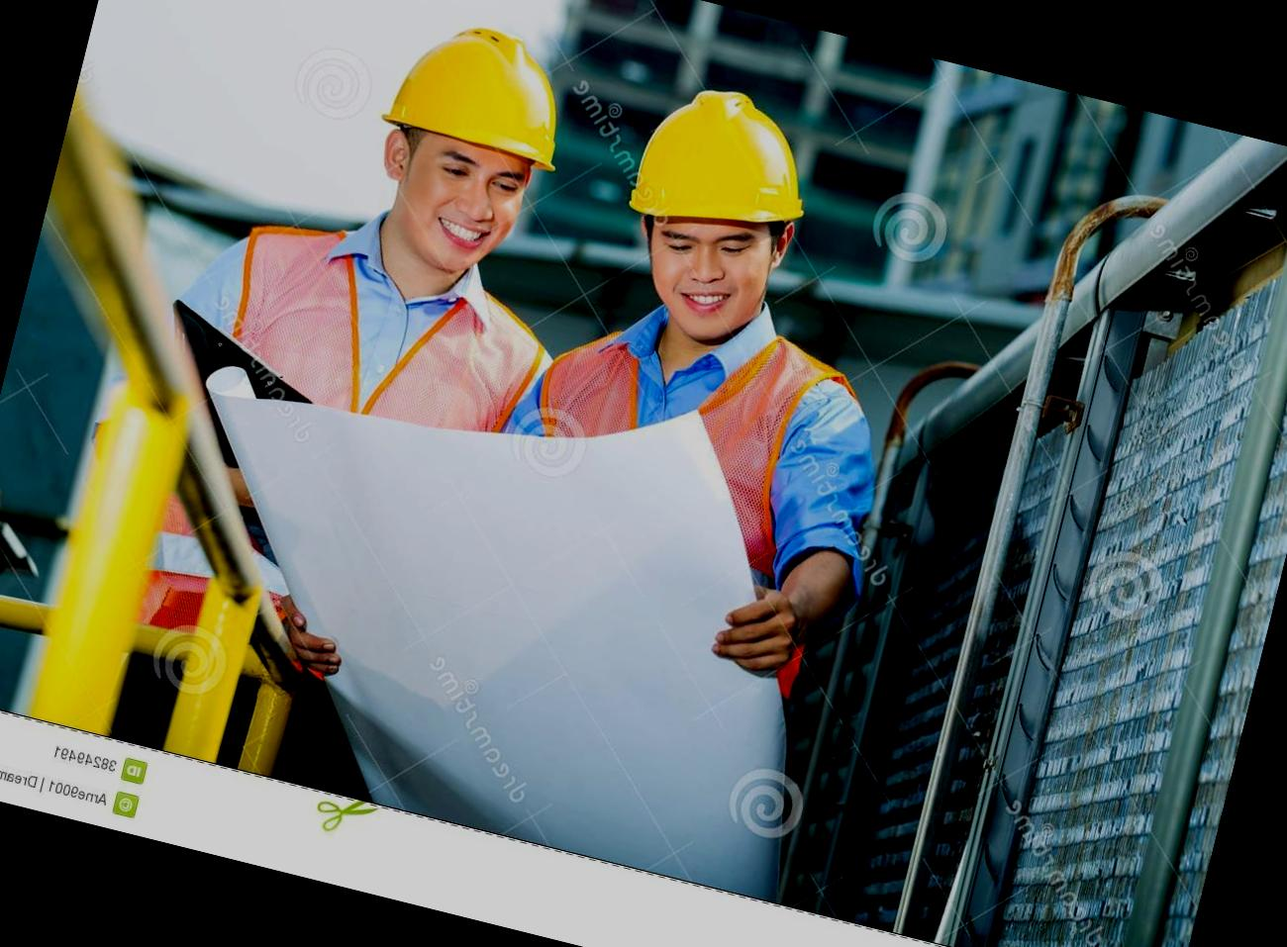helmet: (366, 0, 595, 199), (611, 67, 839, 265)
person: (118, 0, 614, 553), (520, 62, 949, 575)
